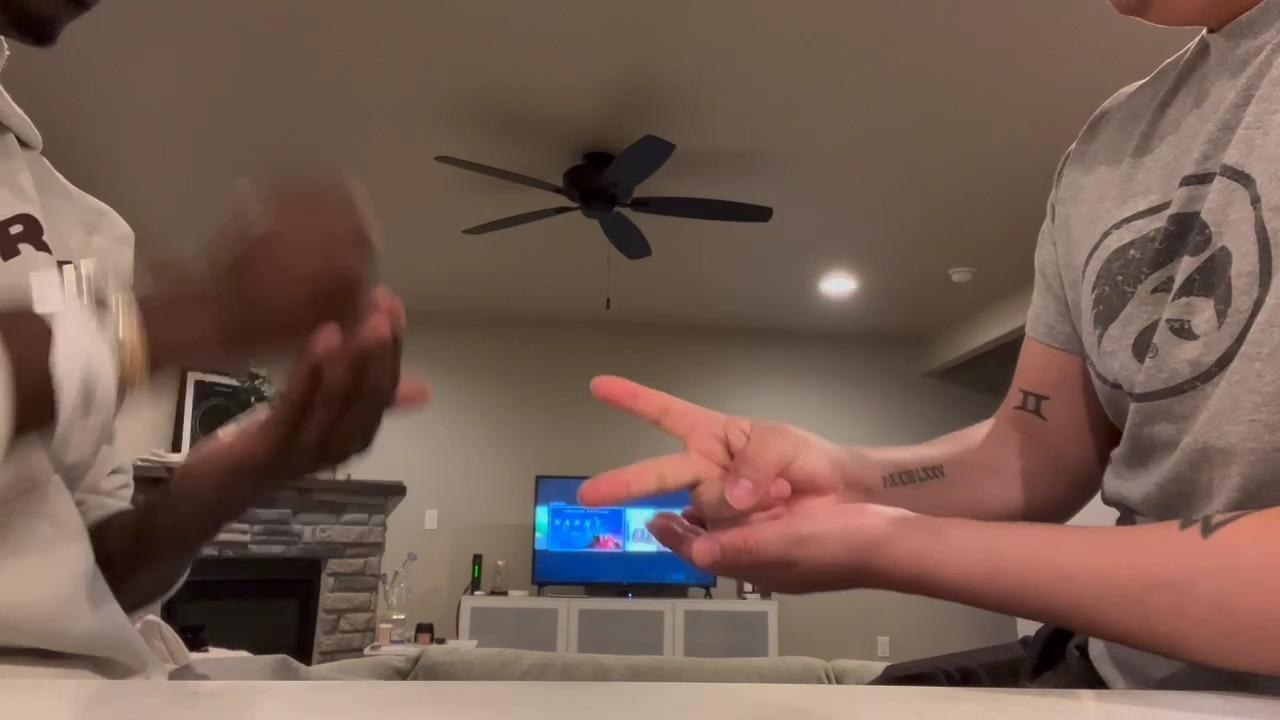Rock: (207, 172, 379, 353)
Scissors: (580, 377, 850, 531)
